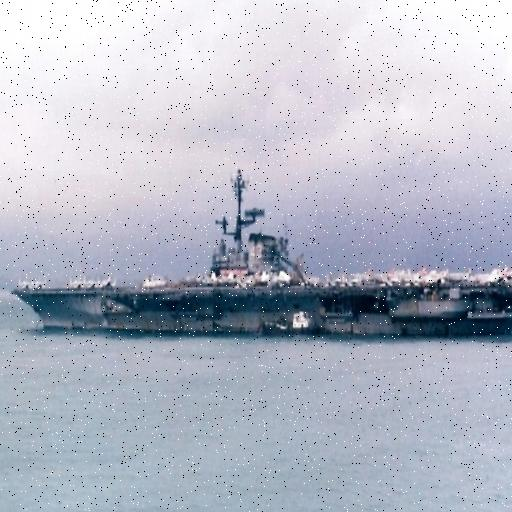Portanaves: (13, 167, 512, 339)
